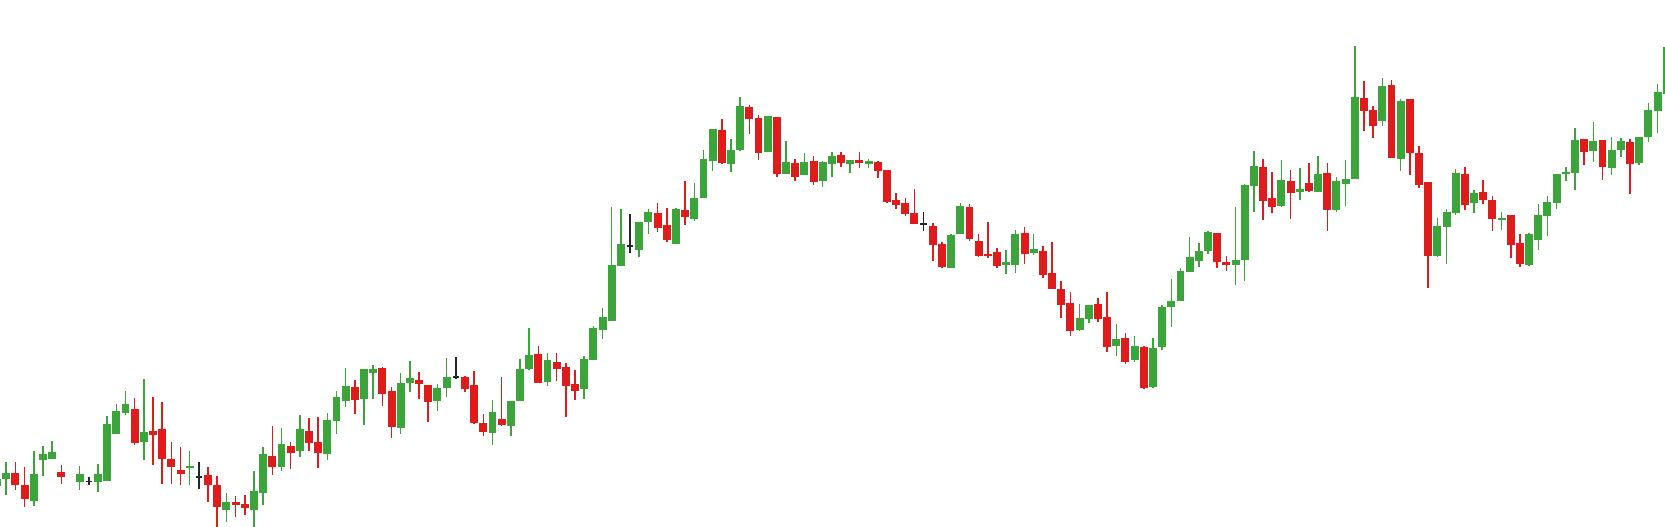buy: (1321, 115, 1453, 292), (423, 375, 498, 448)
